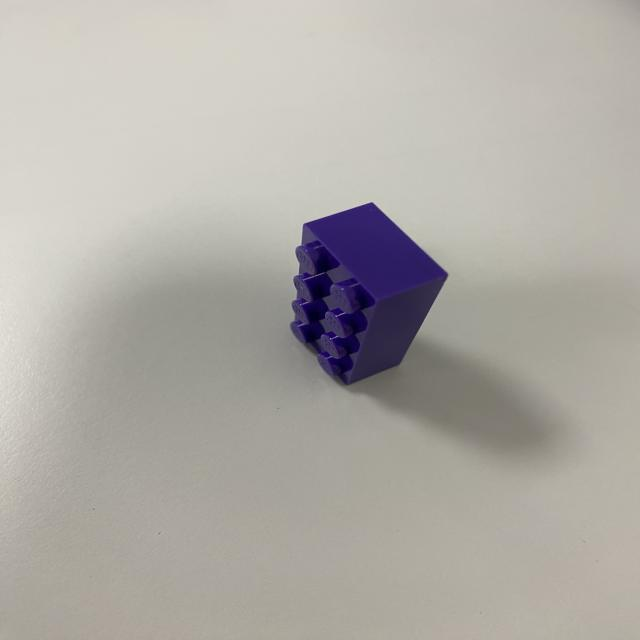C4x2x1: (283, 236, 383, 387), (303, 201, 448, 298), (350, 278, 451, 387)
